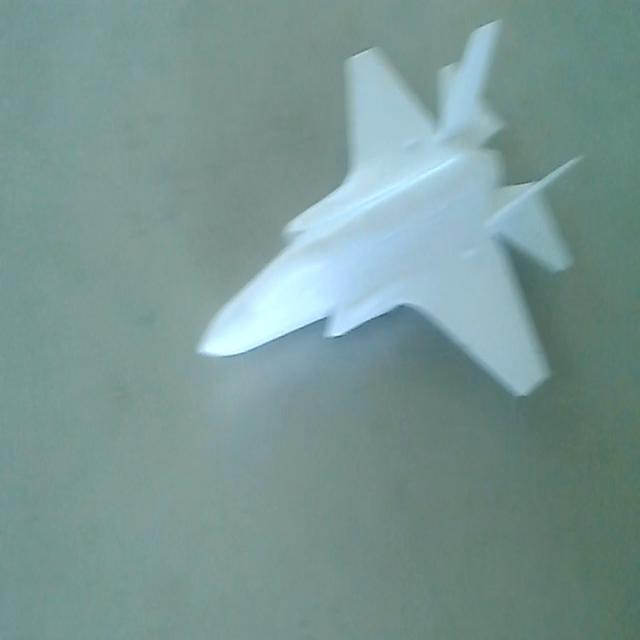Jet: (185, 14, 586, 428)
